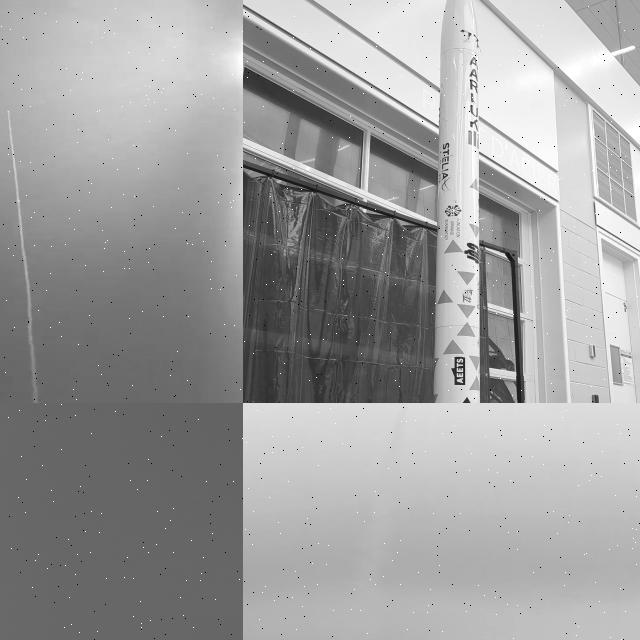Rocket: (433, 0, 481, 403), (6, 109, 12, 112)
